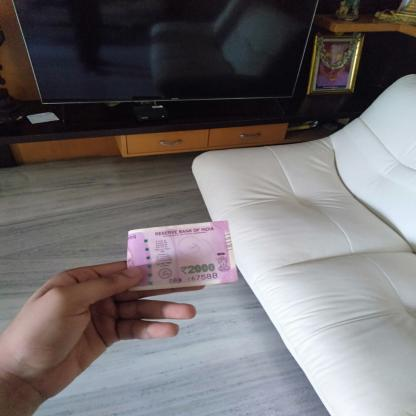New2000Front: (125, 226, 234, 288)
